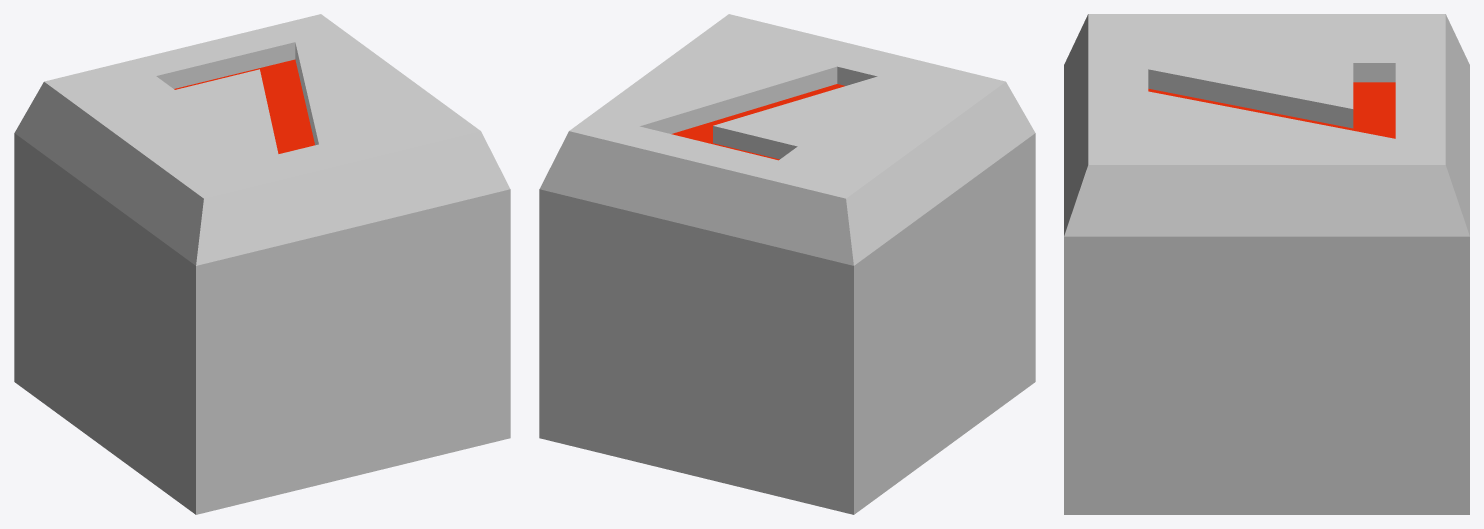
3 renders of one model, left to right at view 1: azimuth 30°, elevation 25°; view 2: azimuth 150°, elevation 25°; view 3: azimuth 270°, elevation 25°, orthographic. The views are drawn at different scales.
Visible parts, largest first — view 1: Cube.001; view 2: Cube.001; view 3: Cube.001.
Part boxes in pixels (x1,y1,x2,y2): Cube.001: (14, 14, 510, 514); Cube.001: (539, 14, 1035, 514); Cube.001: (1064, 14, 1469, 514).
Bounding box in the file's own units: 37.67 × 34.78 × 37.67.
